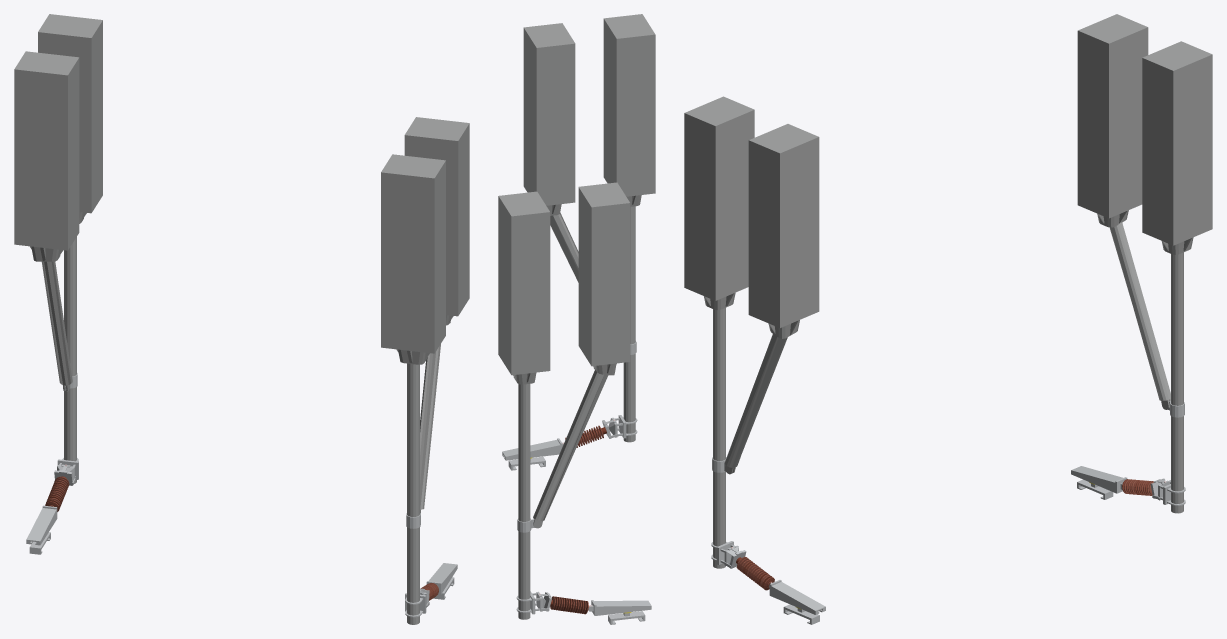
File: catenary_rigid_45d_h.obj
3 renders of one model, left to right at view 1: azimuth 30°, elevation 25°; view 2: azimuth 150°, elevation 25°; view 3: azimuth 270°, elevation 25°, orthographic. The views are drawn at different scales.
Visible parts, largest first — view 1: 1.002, 1.001; view 2: 1.001, 1.002; view 3: 1.001, 1.002.
Boxes of the visible parts, x1,y1,x2,y2 form: 1.002: (381, 117, 469, 624); 1.001: (14, 14, 102, 554); 1.001: (498, 182, 651, 624); 1.002: (502, 14, 655, 470); 1.001: (1071, 14, 1212, 513); 1.002: (684, 96, 825, 624).
Size of the model in its own units: 1.85 by 2.8 by 2.84.
Materials: 2 (2 with a texture image).
